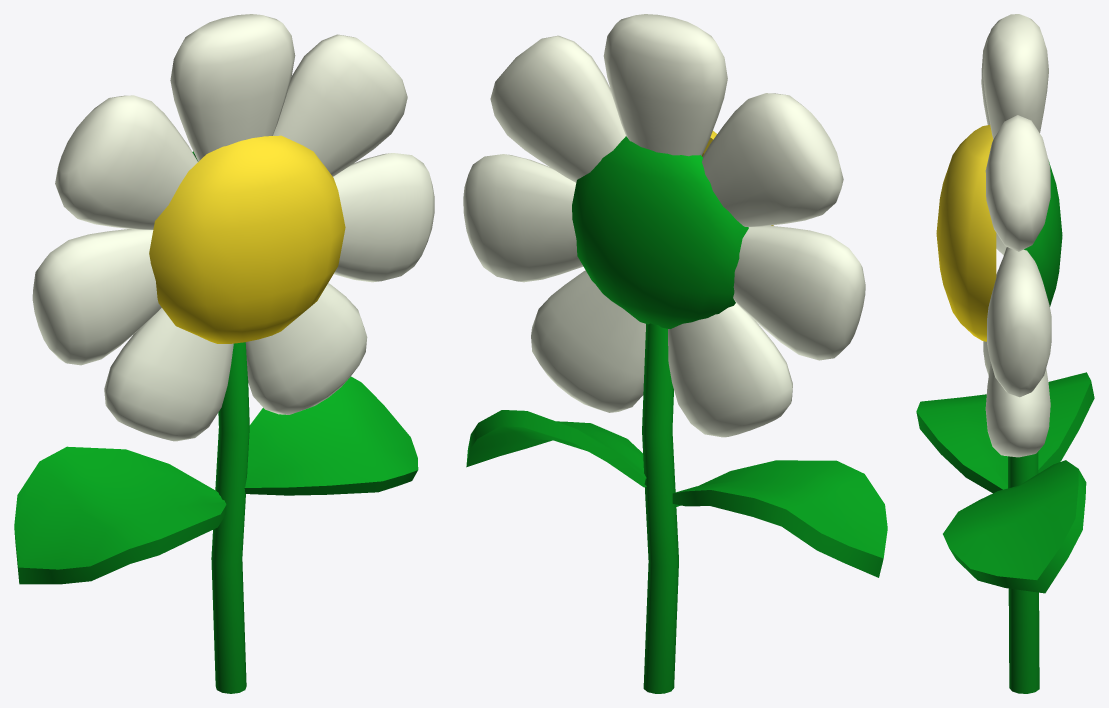
Rendered from Farm_Crop_Daisy_01.fbx.
3 views of the same model, side by side, from view 1: azimuth 30°, elevation 25°; view 2: azimuth 150°, elevation 25°; view 3: azimuth 270°, elevation 25° (orthographic).
Visible parts, largest first — view 1: Farm_Crop_Daisy_01; view 2: Farm_Crop_Daisy_01; view 3: Farm_Crop_Daisy_01.
Boxes of the visible parts, <box> form: Farm_Crop_Daisy_01: <box>14,14,434,693</box>; Farm_Crop_Daisy_01: <box>463,14,887,693</box>; Farm_Crop_Daisy_01: <box>916,14,1094,693</box>.
Bounding box in the file's own units: 58.87 × 90.75 × 22.21.
